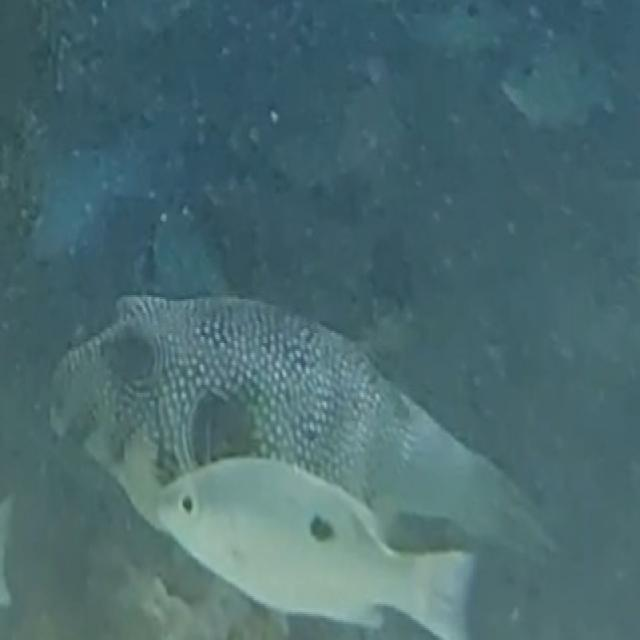Balik: (51, 298, 549, 550), (158, 457, 474, 639)
